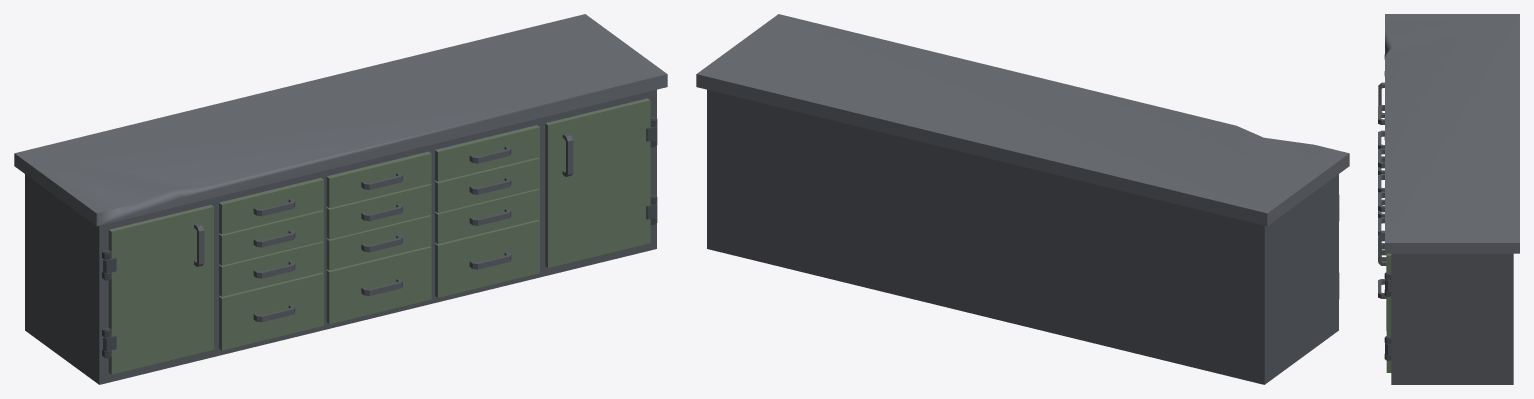
Rendered from SM_Prop_WorkBench_01_Preset.fbx.
3 renders of one model, left to right at view 1: azimuth 30°, elevation 25°; view 2: azimuth 150°, elevation 25°; view 3: azimuth 270°, elevation 25°, orthographic. The views are drawn at different scales.
Parts seen in each view (by area): view 1: SM_Prop_WorkBench_01_Preset; view 2: SM_Prop_WorkBench_01_Preset; view 3: SM_Prop_WorkBench_01_Preset.
Boxes of the visible parts, left/top/right/bottom form: SM_Prop_WorkBench_01_Preset: left=14, top=14, right=667, bottom=384; SM_Prop_WorkBench_01_Preset: left=696, top=14, right=1349, bottom=384; SM_Prop_WorkBench_01_Preset: left=1378, top=14, right=1519, bottom=384.
Bounding box in the file's own units: 344 × 101 × 90.08.
